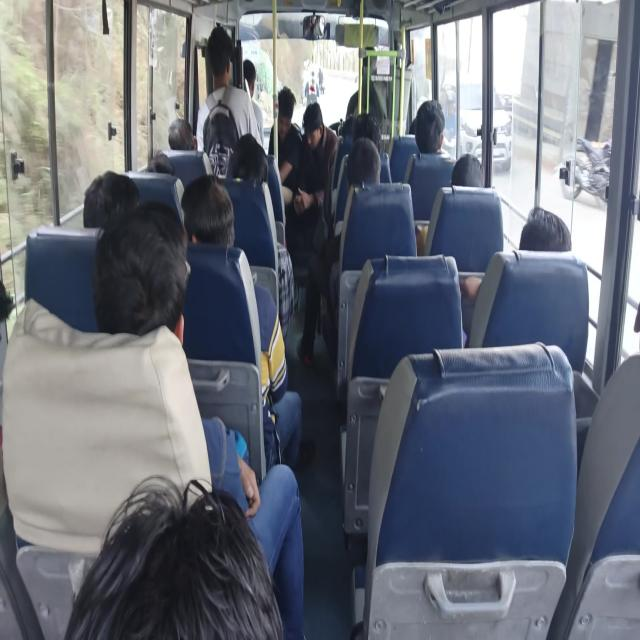person: (65, 451, 262, 640), (106, 205, 199, 346), (498, 196, 573, 289), (173, 186, 242, 270), (208, 41, 251, 111), (168, 110, 211, 177), (225, 133, 279, 184), (82, 174, 133, 227), (426, 100, 450, 176), (0, 274, 23, 350), (145, 114, 168, 187), (232, 150, 260, 199), (359, 142, 389, 187), (238, 56, 262, 110), (304, 108, 332, 153), (276, 92, 301, 137), (359, 119, 390, 153), (629, 286, 640, 376), (461, 161, 481, 202), (340, 111, 360, 143), (406, 114, 426, 146)
